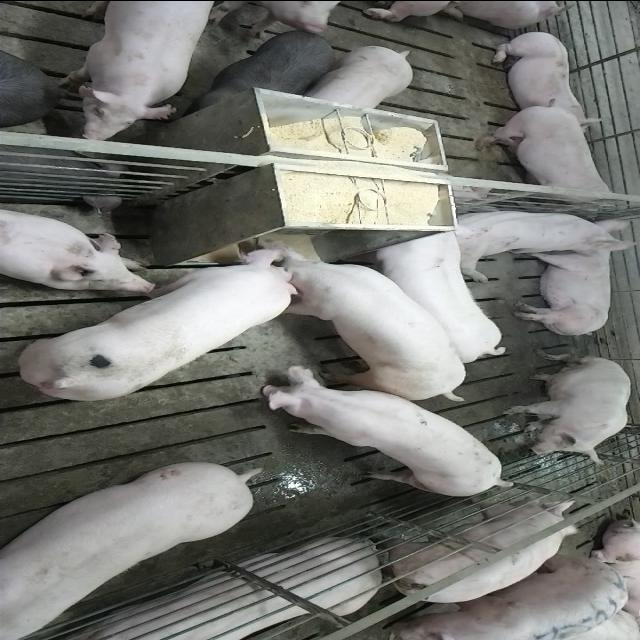Feeding: (16, 240, 302, 402), (258, 242, 476, 408)
Lateral_lying: (510, 238, 636, 338)
Sitting: (502, 354, 632, 463), (448, 205, 630, 271)
Standing: (0, 464, 256, 640), (261, 369, 520, 500), (362, 493, 578, 608), (59, 2, 226, 140), (373, 552, 634, 640), (362, 225, 510, 364), (472, 100, 620, 206), (184, 30, 340, 111), (303, 44, 413, 110)
Sternal_lying: (0, 206, 156, 292), (486, 28, 602, 124)
